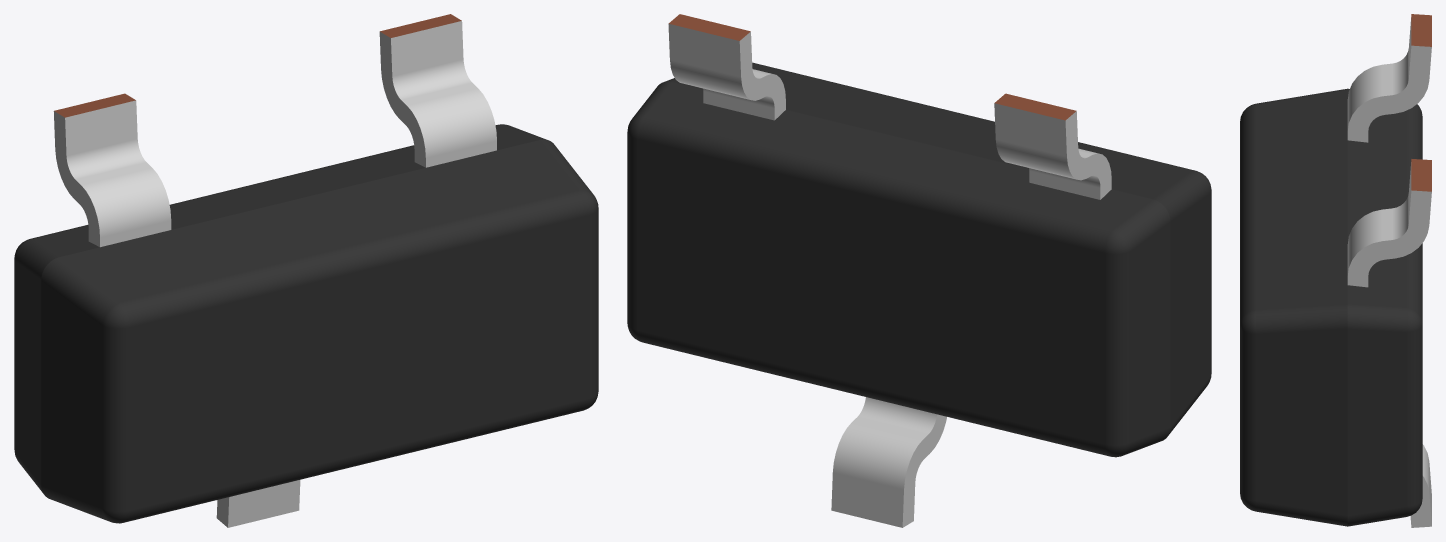
Rendered from sot23.glb.
3 renders of one model, left to right at view 1: azimuth 30°, elevation 25°; view 2: azimuth 150°, elevation 25°; view 3: azimuth 270°, elevation 25°, orthographic. The views are drawn at different scales.
Parts seen in each view (by area): view 1: CP01, LDF, CP02; view 2: CP02, LDF, CP01; view 3: CP01, CP02, LDF.
Part boxes in pixels (box(x1,y1,x2,y2)): CP01: box(41, 139, 598, 523); LDF: box(53, 14, 496, 527); CP02: box(14, 124, 545, 492); CP02: box(627, 81, 1170, 457); LDF: box(668, 14, 1111, 527); CP01: box(665, 62, 1211, 434); CP01: box(1240, 88, 1347, 526); CP02: box(1347, 88, 1422, 526); LDF: box(1347, 14, 1431, 527).
Bounding box in the file's own units: 0.0029 × 0.00242 × 0.00103.
